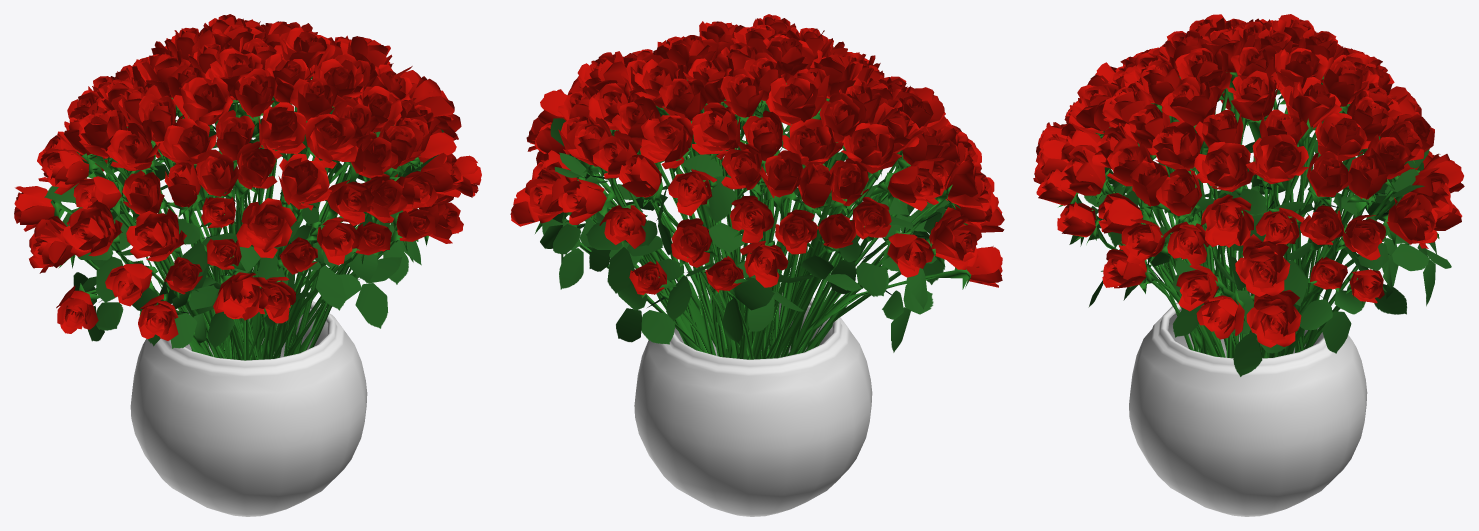
The model's file is rose2.glb.
The picture shows the model from 3 angles, left to right: view 1: azimuth 30°, elevation 25°; view 2: azimuth 150°, elevation 25°; view 3: azimuth 270°, elevation 25°; orthographic projection.
Visible parts, largest first — view 1: Object279.001, Line080.001; view 2: Object279.001, Line080.001; view 3: Object279.001, Line080.001.
Boxes of the visible parts, x1,y1,x2,y2 form: Object279.001: (14,14,481,360); Line080.001: (130,298,367,516); Object279.001: (510,14,1004,359); Line080.001: (634,293,872,516); Object279.001: (1033,14,1464,376); Line080.001: (1129,292,1367,516).
Size of the model in its own units: 1.04 by 1.02 by 0.8688.
5 materials, 1 textured.
